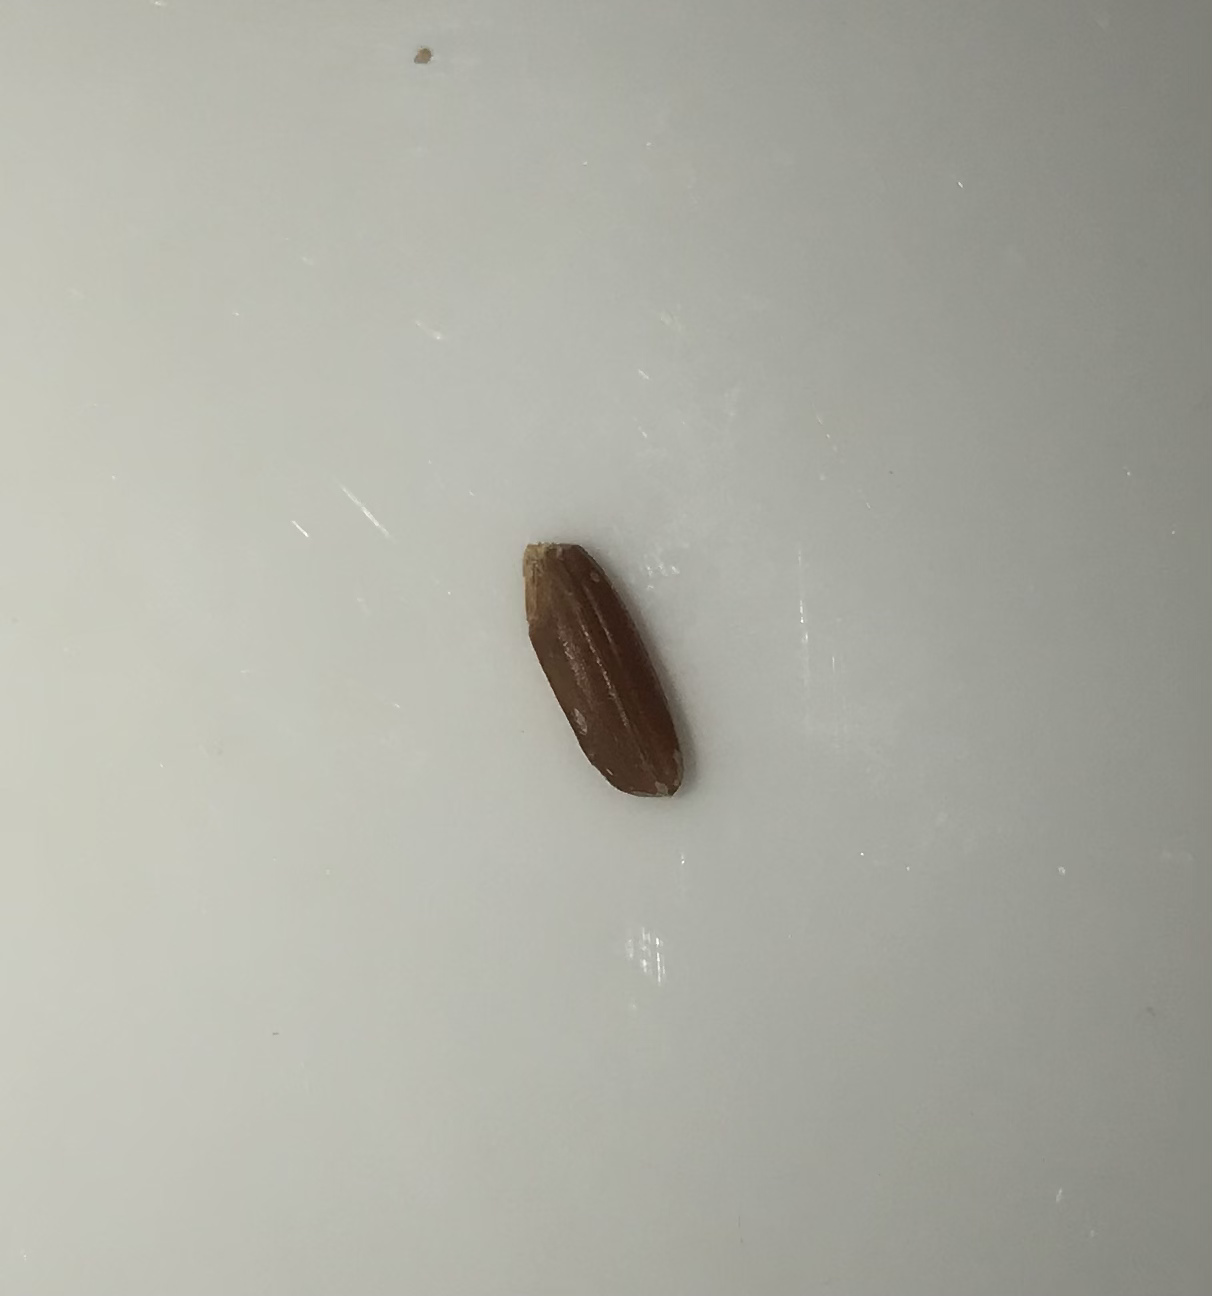Gao Lut Do: (491, 524, 694, 811)
